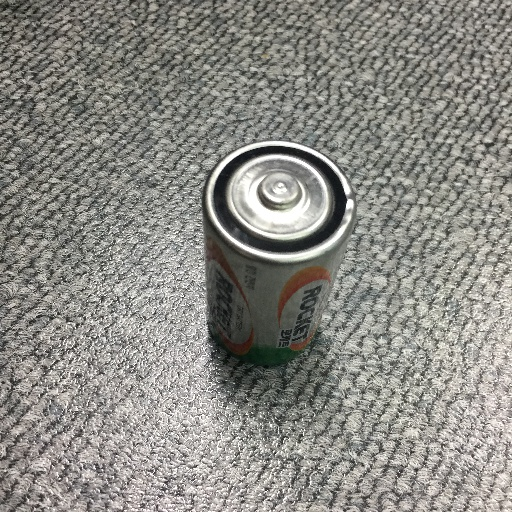Battery_0: (189, 124, 363, 383)
